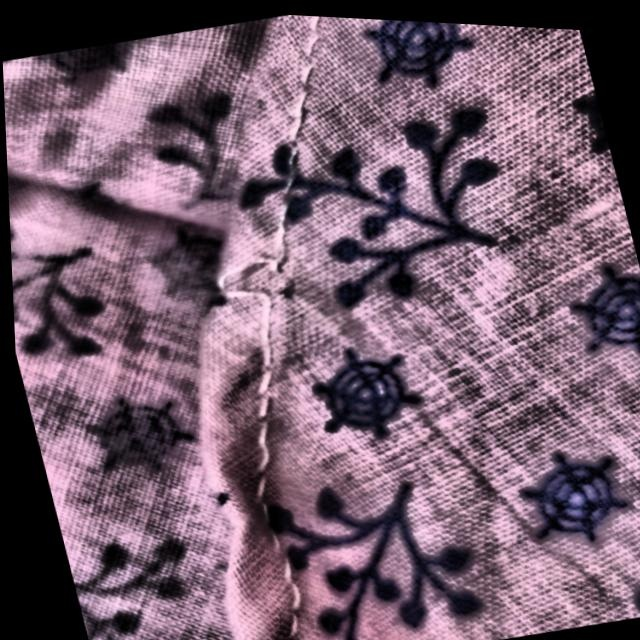Stitch: (152, 183, 339, 377), (184, 211, 319, 336)
